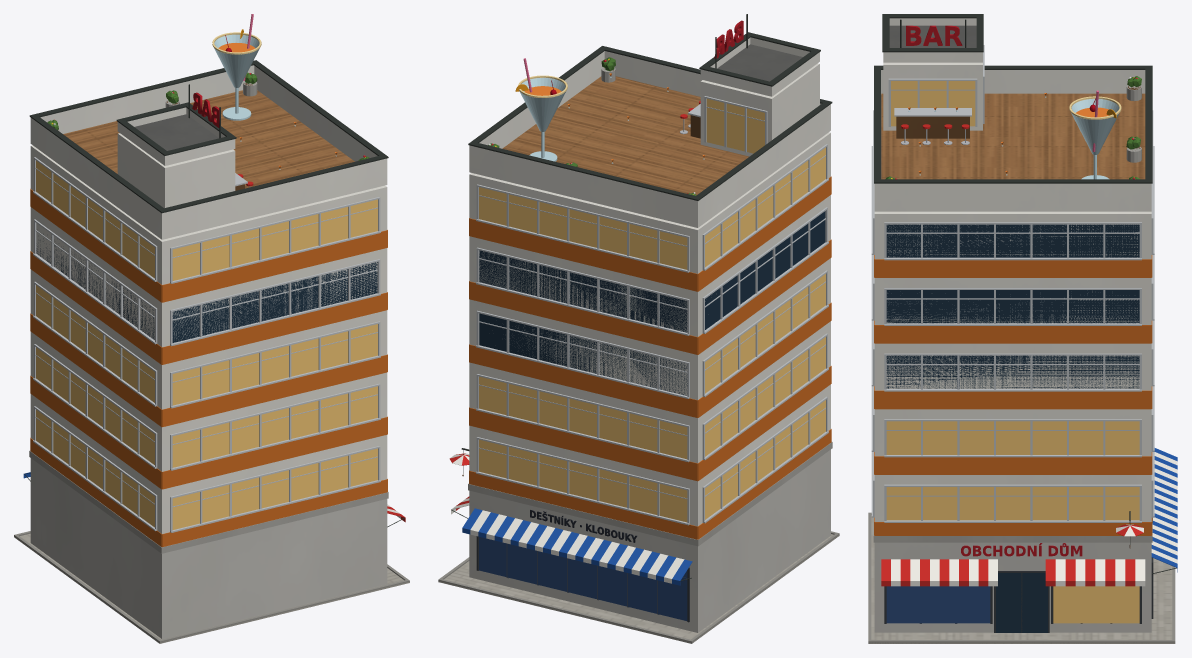
File: dum_1e_obchody_vysoke.glb
3 renders of one model, left to right at view 1: azimuth 30°, elevation 25°; view 2: azimuth 150°, elevation 25°; view 3: azimuth 270°, elevation 25°, orthographic. The views are drawn at different scales.
Visible parts, largest first — view 1: dum, noc; view 2: dum, noc; view 3: dum, noc.
Part boxes in pixels (x1,y1,x2,y2): dum: (14, 14, 409, 643); noc: (36, 32, 377, 529); dum: (438, 14, 839, 643); noc: (479, 75, 825, 522); dum: (868, 14, 1177, 643); noc: (886, 81, 1139, 623).
Bounding box in the file's own units: 12.97 × 24.37 × 12.79.
Materials: 1 (1 with a texture image).
